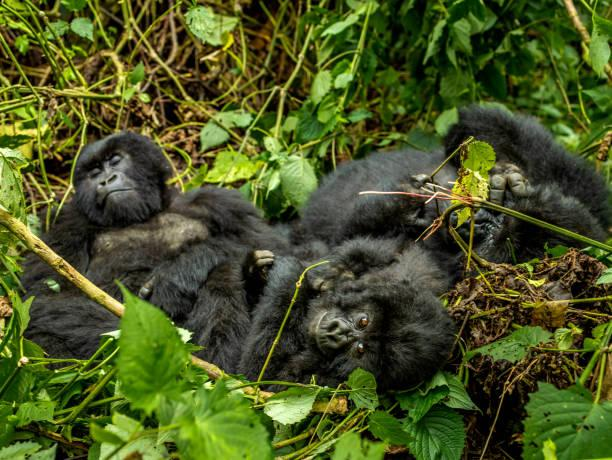goriile_montagne: (26, 125, 259, 370), (281, 158, 459, 377)
